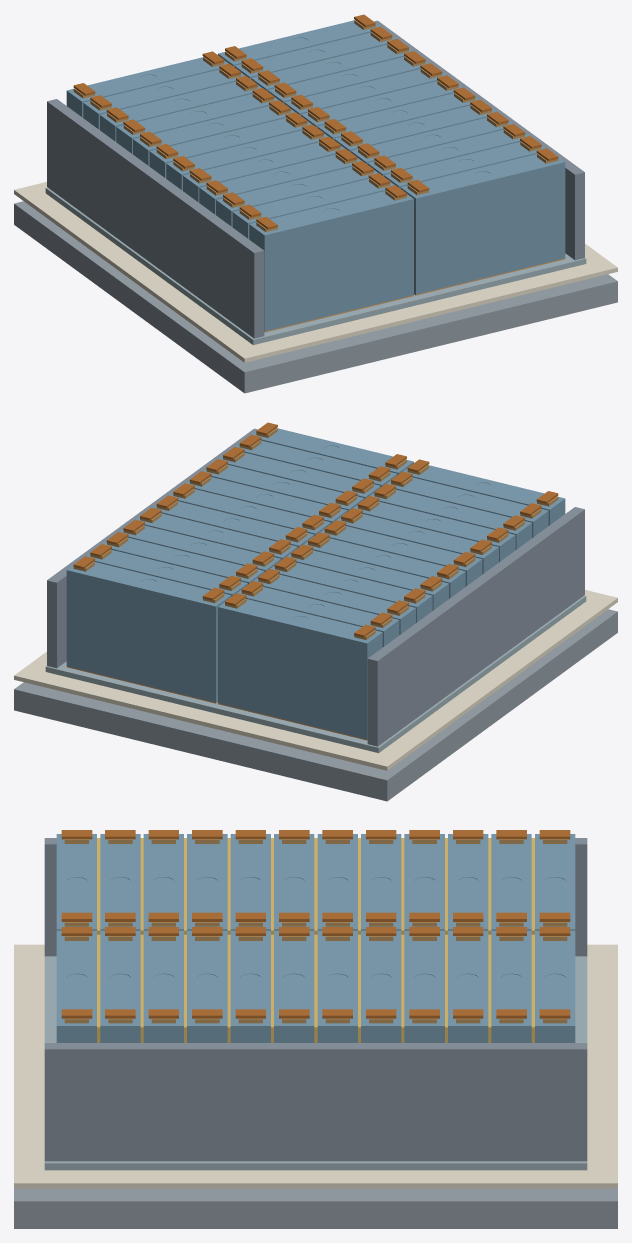
The model's file is BENCH_block_2x12_assembly.glb.
3 renders of one model, top to bottom at view 1: azimuth 30°, elevation 25°; view 2: azimuth 150°, elevation 25°; view 3: azimuth 270°, elevation 25°, orthographic. The views are drawn at different scales.
Parts seen in each view (by area): view 1: 241_block_end_member, 240_coil_support_plate, 000_cell_A-6, 119_cell_B-6, 239_top_plate_nonmetal, 238_cooling_plate_Al, 242_block_end_member_R, 010_cell_A-5, 110_cell_A+5, 060_cell_A+0, 020_cell_A-4, 070_cell_A+1 (+17 smaller); view 2: 241_block_end_member, 240_coil_support_plate, 110_cell_A+5, 229_cell_B+5, 239_top_plate_nonmetal, 238_cooling_plate_Al, 242_block_end_member_R, 000_cell_A-6, 100_cell_A+4, 050_cell_A-1, 090_cell_A+3, 040_cell_A-2 (+17 smaller); view 3: 242_block_end_member_R, 239_top_plate_nonmetal, 240_coil_support_plate, 238_cooling_plate_Al, 129_cell_B-5, 219_cell_B+4, 119_cell_B-6, 139_cell_B-4, 159_cell_B-2, 189_cell_B+1, 209_cell_B+3, 229_cell_B+5 (+17 smaller).
Boxes of the visible parts, x1=… form: 241_block_end_member: x1=47, y1=99, x2=264, y2=338; 240_coil_support_plate: x1=14, y1=201, x2=617, y2=393; 000_cell_A-6: x1=249, y1=191, x2=413, y2=331; 119_cell_B-6: x1=400, y1=154, x2=565, y2=294; 239_top_plate_nonmetal: x1=14, y1=182, x2=617, y2=362; 238_cooling_plate_Al: x1=45, y1=187, x2=586, y2=345; 242_block_end_member_R: x1=374, y1=20, x2=584, y2=260; 010_cell_A-5: x1=232, y1=179, x2=394, y2=239; 110_cell_A+5: x1=66, y1=57, x2=228, y2=117; 060_cell_A+0: x1=149, y1=118, x2=311, y2=178; 020_cell_A-4: x1=216, y1=166, x2=377, y2=226; 070_cell_A+1: x1=133, y1=106, x2=294, y2=166; 241_block_end_member: x1=367, y1=507, x2=584, y2=746; 240_coil_support_plate: x1=14, y1=609, x2=617, y2=801; 110_cell_A+5: x1=218, y1=599, x2=382, y2=739; 229_cell_B+5: x1=66, y1=562, x2=231, y2=702; 239_top_plate_nonmetal: x1=14, y1=590, x2=617, y2=770; 238_cooling_plate_Al: x1=45, y1=595, x2=586, y2=753; 242_block_end_member_R: x1=47, y1=428, x2=257, y2=668; 000_cell_A-6: x1=403, y1=465, x2=565, y2=525; 100_cell_A+4: x1=237, y1=587, x2=399, y2=647; 050_cell_A-1: x1=320, y1=526, x2=482, y2=586; 090_cell_A+3: x1=254, y1=574, x2=415, y2=634; 040_cell_A-2: x1=337, y1=514, x2=498, y2=574; 242_block_end_member_R: x1=44, y1=1043, x2=587, y2=1161; 239_top_plate_nonmetal: x1=14, y1=944, x2=617, y2=1188; 240_coil_support_plate: x1=14, y1=1188, x2=617, y2=1228; 238_cooling_plate_Al: x1=44, y1=956, x2=587, y2=1170; 129_cell_B-5: x1=100, y1=930, x2=140, y2=1042; 219_cell_B+4: x1=491, y1=930, x2=531, y2=1042; 119_cell_B-6: x1=56, y1=930, x2=96, y2=1042; 139_cell_B-4: x1=143, y1=930, x2=183, y2=1042; 159_cell_B-2: x1=230, y1=930, x2=270, y2=1042; 189_cell_B+1: x1=361, y1=930, x2=401, y2=1042; 209_cell_B+3: x1=448, y1=930, x2=488, y2=1042; 229_cell_B+5: x1=535, y1=930, x2=575, y2=1042.
Size of the model in its own units: 0.37 by 0.135 by 0.396.
